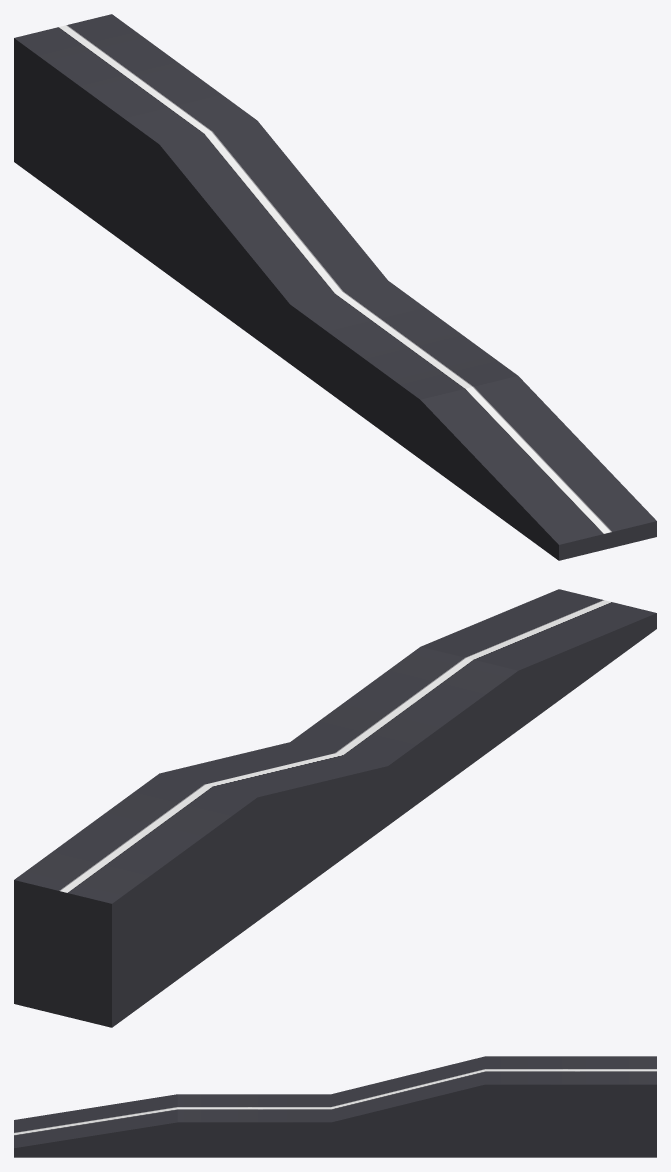
The model's file is ajou_road_03.gltf.
The picture shows the model from 3 angles, top to bottom: view 1: azimuth 30°, elevation 25°; view 2: azimuth 150°, elevation 25°; view 3: azimuth 270°, elevation 25°; orthographic projection. The views are drawn at different scales.
Visible parts, largest first — view 1: pCube3; view 2: pCube3; view 3: pCube3.
Boxes of the visible parts, x1,y1,x2,y2 form: pCube3: [14, 14, 656, 560]; pCube3: [14, 589, 656, 1027]; pCube3: [14, 1056, 656, 1157].
Size of the model in its own units: 1.79 by 2.17 by 17.27.
1 material, 1 textured.
